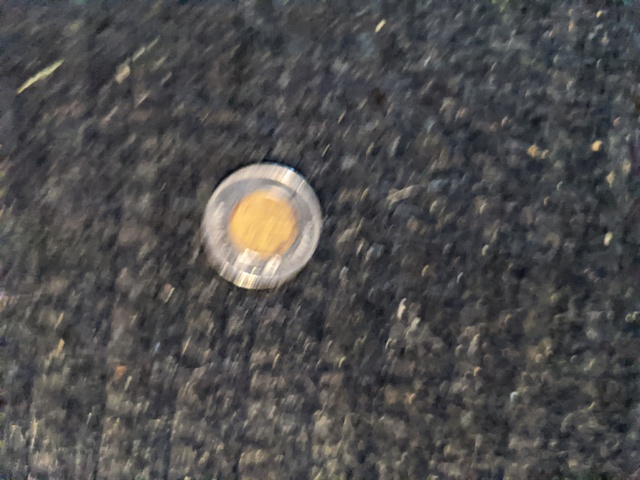twonie: (187, 156, 335, 293)
